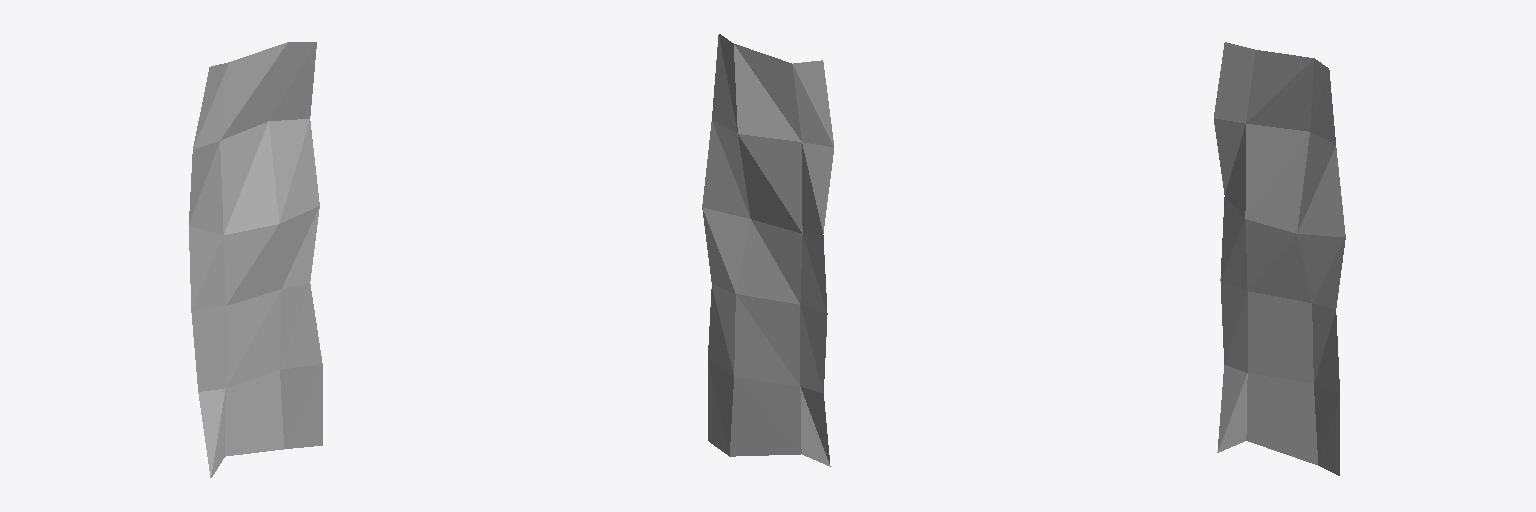
The model's file is Gum_Wrapper.obj.
The picture shows the model from 3 angles: view 1: azimuth 30°, elevation 25°; view 2: azimuth 150°, elevation 25°; view 3: azimuth 330°, elevation 25°; orthographic projection.
Parts seen in each view (by area): view 1: Gum_Wrapper; view 2: Gum_Wrapper; view 3: Gum_Wrapper.
Boxes of the visible parts, x1=… form: Gum_Wrapper: x1=189, y1=42, x2=322, y2=477; Gum_Wrapper: x1=702, y1=34, x2=833, y2=466; Gum_Wrapper: x1=1214, y1=42, x2=1345, y2=475.
Bounding box in the file's own units: 2.32 × 7 × 0.5358.